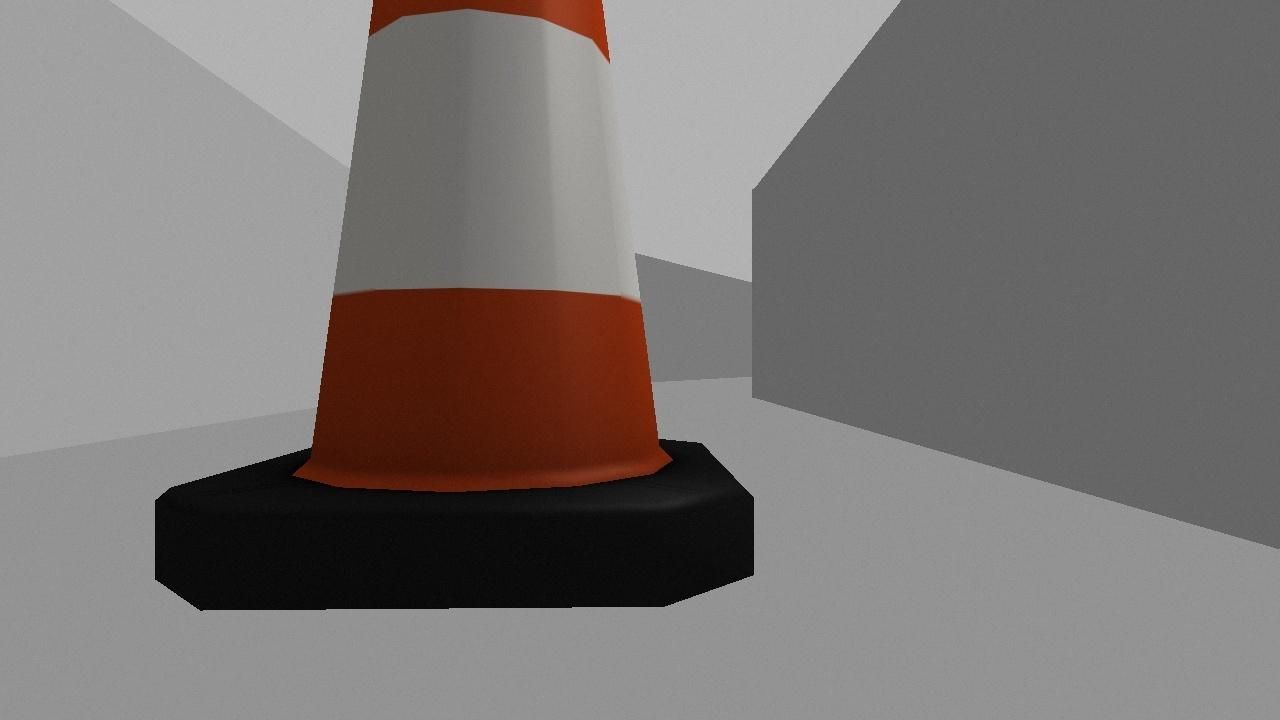cone_barrel: (129, 0, 771, 631)
